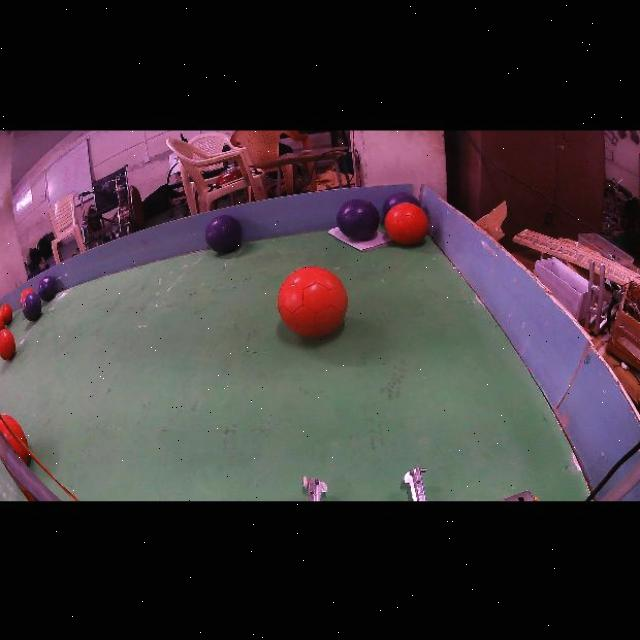P: (337, 200, 380, 242), (205, 216, 242, 253), (382, 192, 420, 217), (22, 293, 42, 322), (38, 276, 57, 302)
R: (278, 267, 347, 338), (385, 203, 429, 245), (0, 420, 30, 464), (3, 414, 27, 447), (0, 329, 16, 362), (20, 288, 34, 307), (0, 305, 13, 325), (0, 315, 5, 332)
